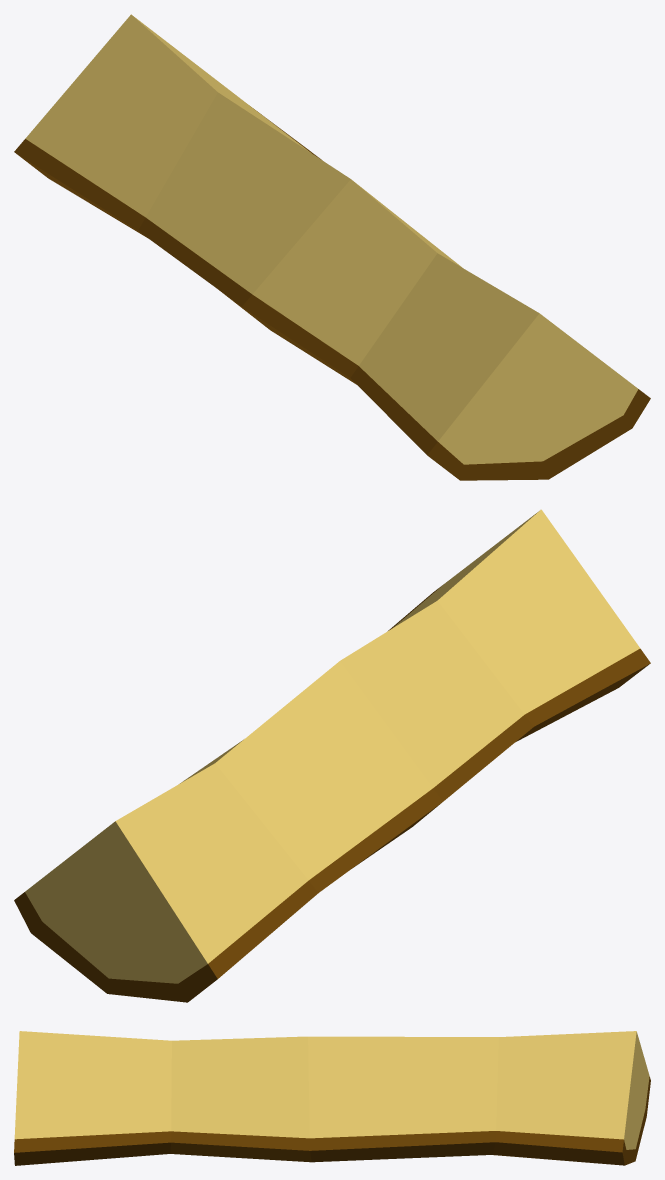
Rendered from wood03.fbx.
3 views of the same model, one above another, from view 1: azimuth 30°, elevation 25°; view 2: azimuth 150°, elevation 25°; view 3: azimuth 270°, elevation 25° (orthographic). The views are drawn at different scales.
Visible parts, largest first — view 1: Cylinder.008; view 2: Cylinder.008; view 3: Cylinder.008.
Boxes of the visible parts, x1,y1,x2,y2 form: Cylinder.008: (14,14,650,480); Cylinder.008: (14,509,650,1002); Cylinder.008: (14,1031,650,1165).
Bounding box in the file's own units: 0.2523 × 0.1875 × 0.8514.
